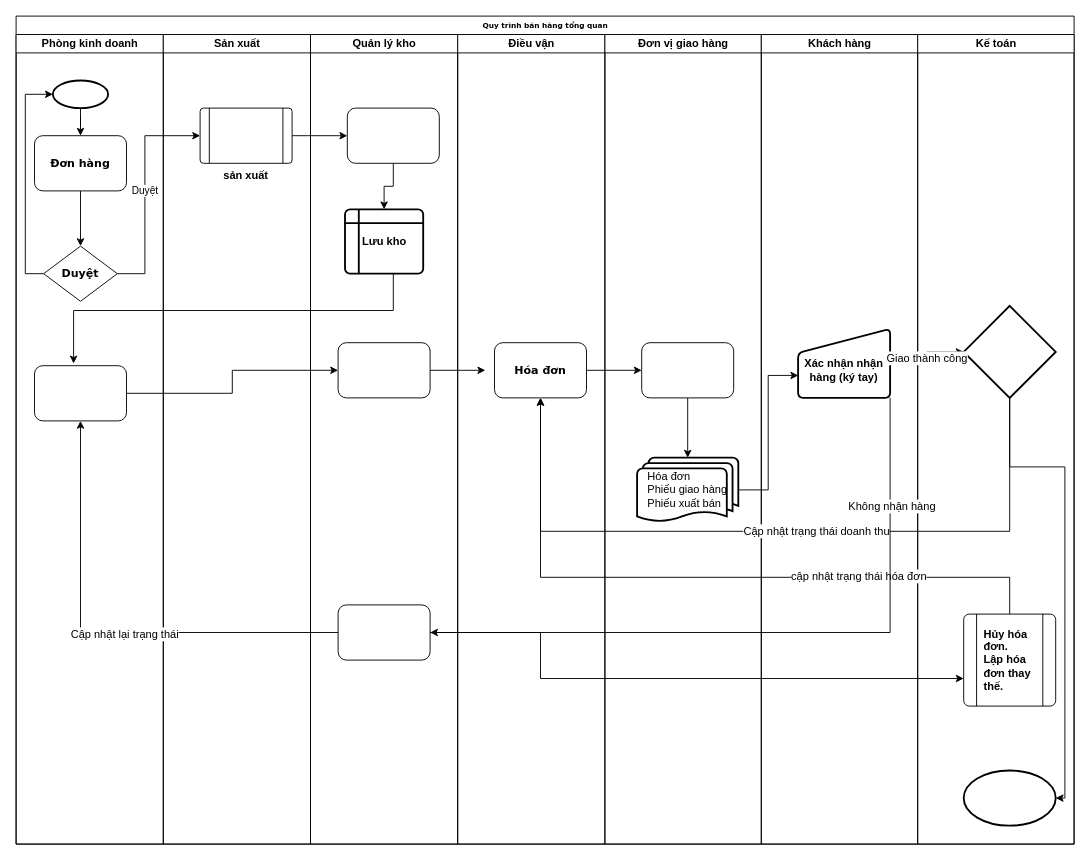
This 1090x860 diagram has some shape labels left out. Here are the shapes that lost their labels. From the top down, the centre of each, then its label:
(80,94): Bắt đầu
(392,135): Nhập kho thành phẩm
(383,370): Phiếu xuất bán
(687,370): Phiếu giao hàng
(1009,351): Xác nhận doanh thu
(80,393): Yêu cầu xuất bán
(383,632): Phiếu nhập hàng bán trả lại thực tế
(1009,797): Kết thúc
